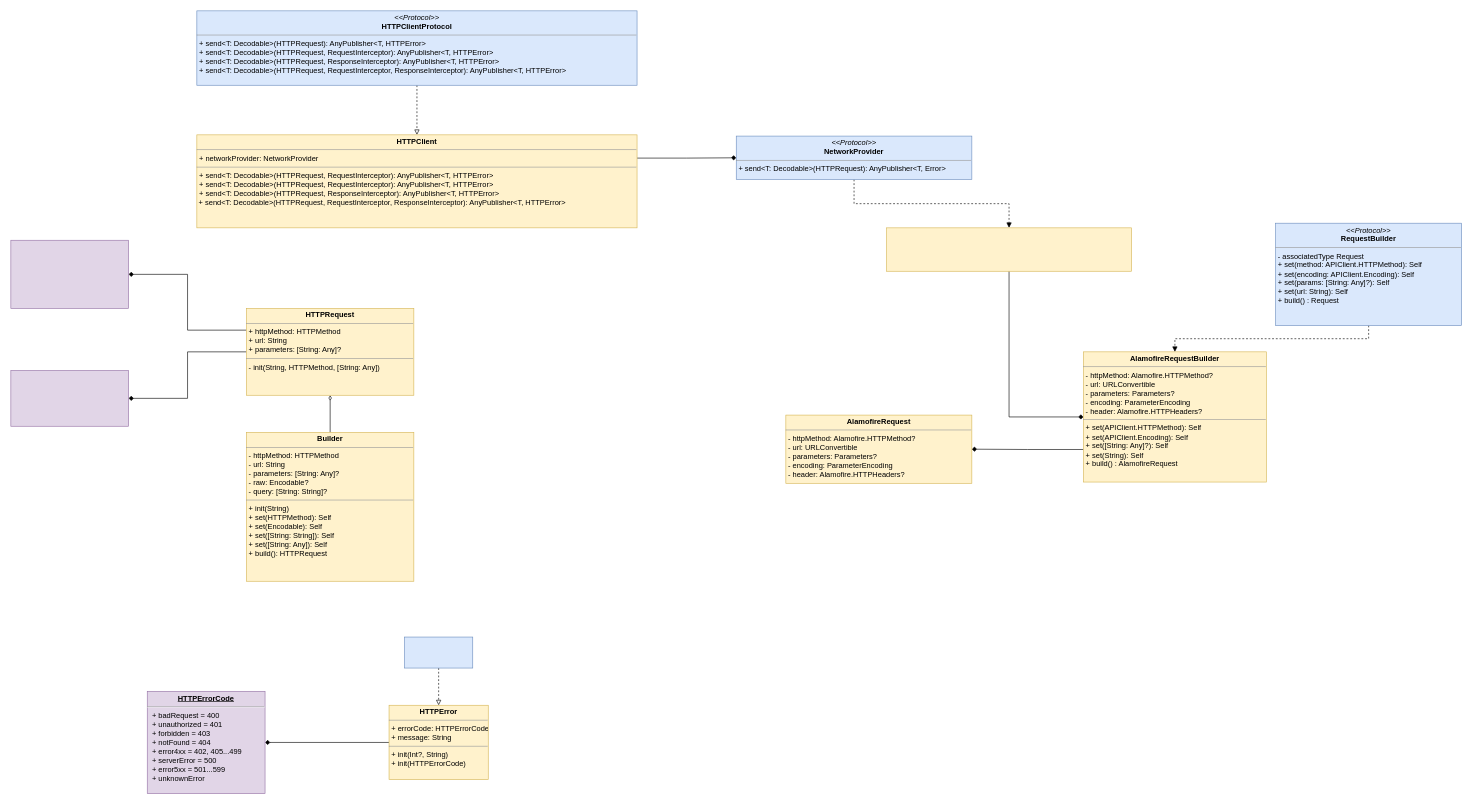
This 1473x805 diagram has some shape labels left out. Each missing label, with the box of its shape:
AlamofireProvider + send<T: Decodable>(HTTPRequest): AnyPublisher<T, HTTPError>: (886, 227, 1132, 271)
HTTPEncoding urlEncoding queryString jsonEncoding: (10, 370, 129, 426)
HTTPMethod + get = "GET" + post = "POST" + put = "PUT" + delete = "DELETE": (10, 240, 129, 308)
«Protocol» Error: (404, 636, 473, 668)
